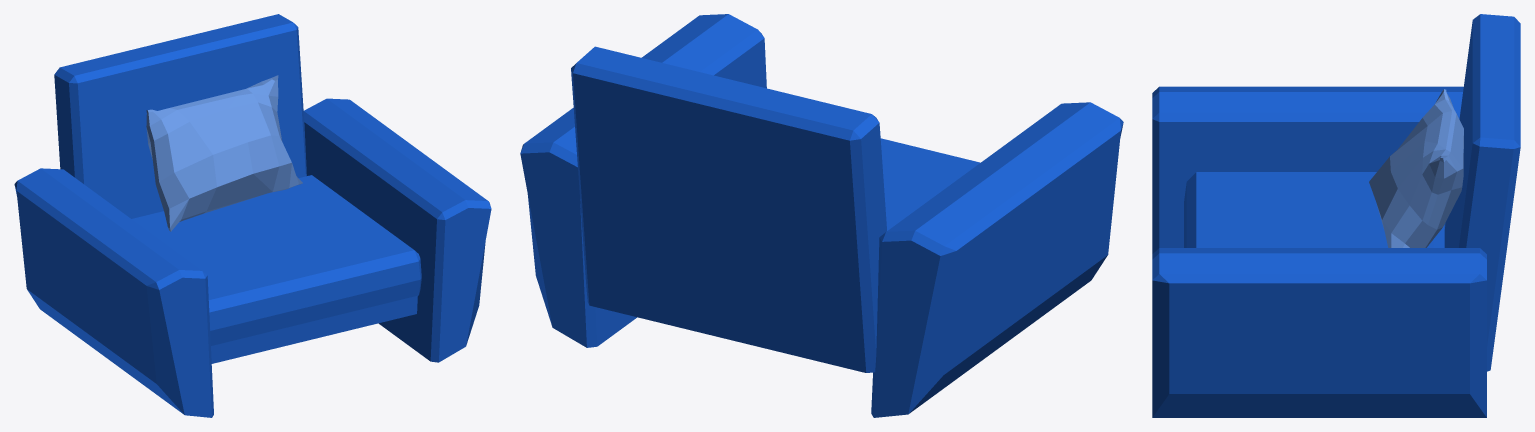
File: Sofa02.fbx
The picture shows the model from 3 angles, left to right: view 1: azimuth 30°, elevation 25°; view 2: azimuth 150°, elevation 25°; view 3: azimuth 270°, elevation 25°; orthographic projection. The views are drawn at different scales.
Parts seen in each view (by area): view 1: Sofa02; view 2: Sofa02; view 3: Sofa02.
Part boxes in pixels (x1,y1,x2,y2): Sofa02: (14, 14, 491, 417); Sofa02: (520, 14, 1123, 417); Sofa02: (1152, 14, 1520, 417).
Size of the model in its own units: 140 by 92.7 by 113.
